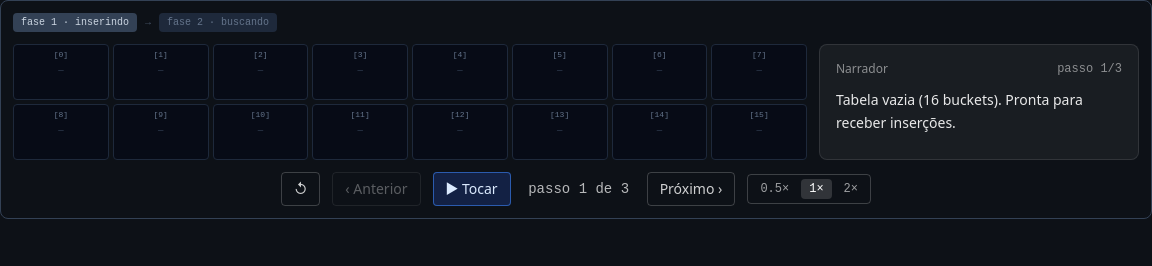
BuscaHashVisual › ao avançar até a colisão o bucket colidido fica destacado
The width and height of the screenshot is (1152, 266).
Click the button "Próximo ›" at coordinates (691, 189), box [647,172,735,206]
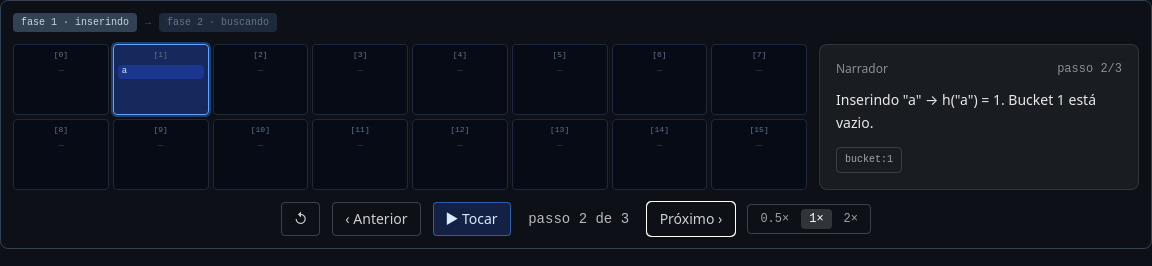
Click the button "Próximo ›" at coordinates (691, 218), box [647,202,735,236]
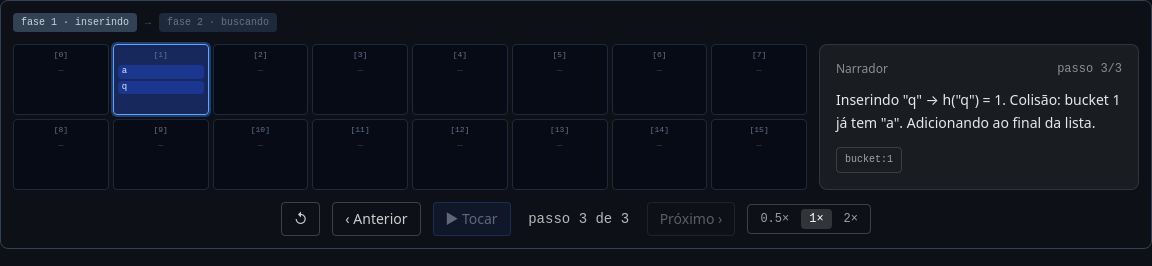
Expected: the element showing "[1] a q" is shown, [113,44,209,115]
Expected: the text "passo 3 de 3" is shown, [523,208,635,228]
Expected: the text "Colisão" is shown, [836,90,1121,132]
